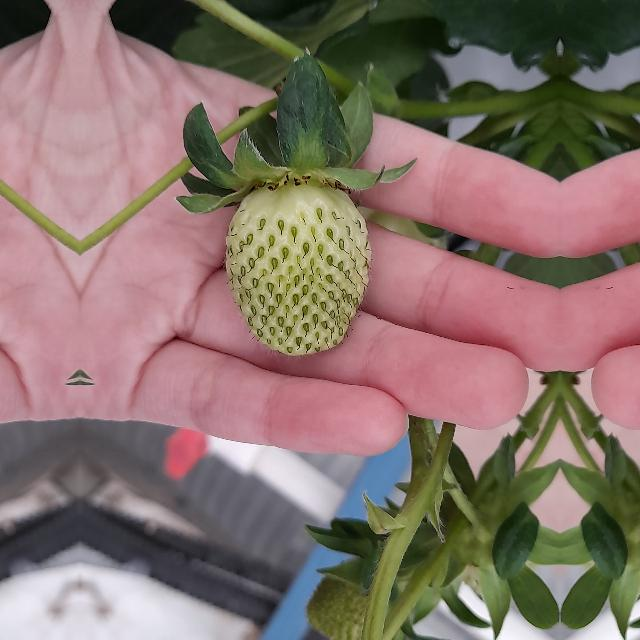Health_25: (225, 182, 372, 356)
